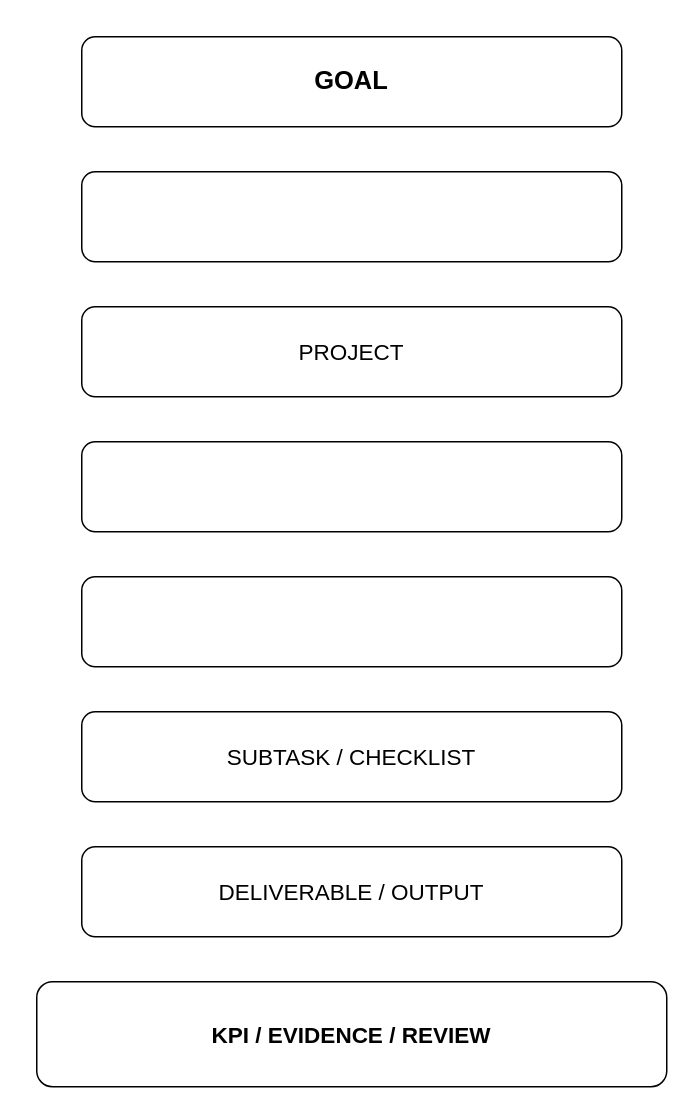
Image size: 693x1113. Some labels were removed from this diagram. Here are the shapes that lost their labels. From the top down, the centre of each, then its label:
(351,216): PLAN / WORKSTREAM
(351,486): MILESTONE
(351,621): TASK
